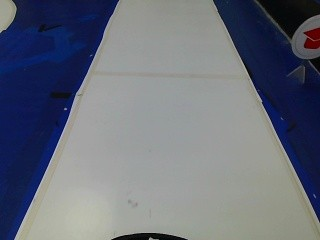school: (287, 16, 318, 61)
